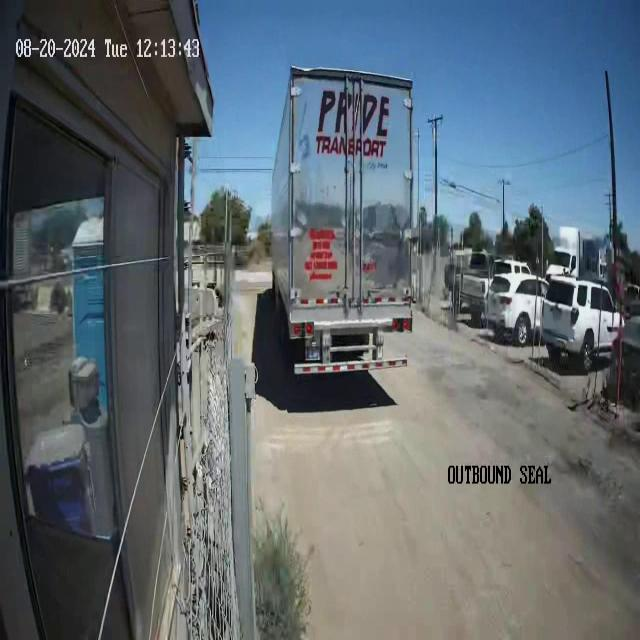TRUCK_CONTAINER: (270, 63, 416, 374)
